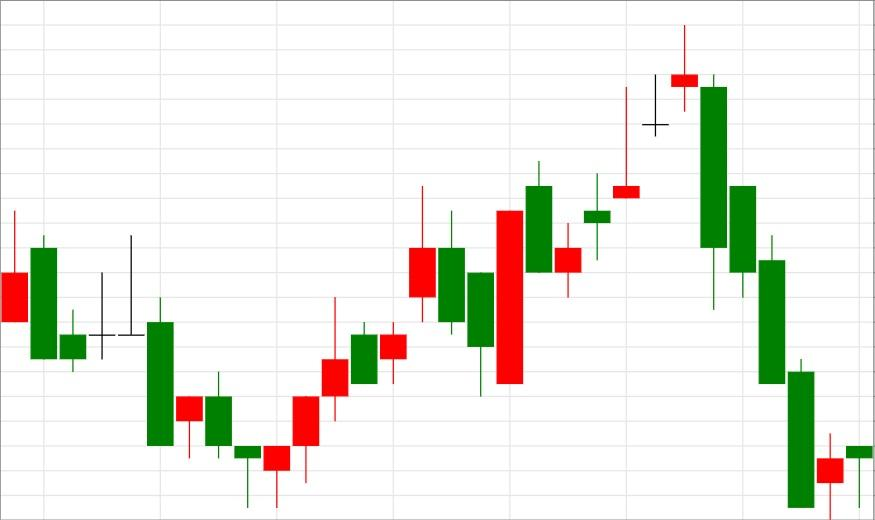three_white_soldiers_rise: (117, 235, 350, 508)
